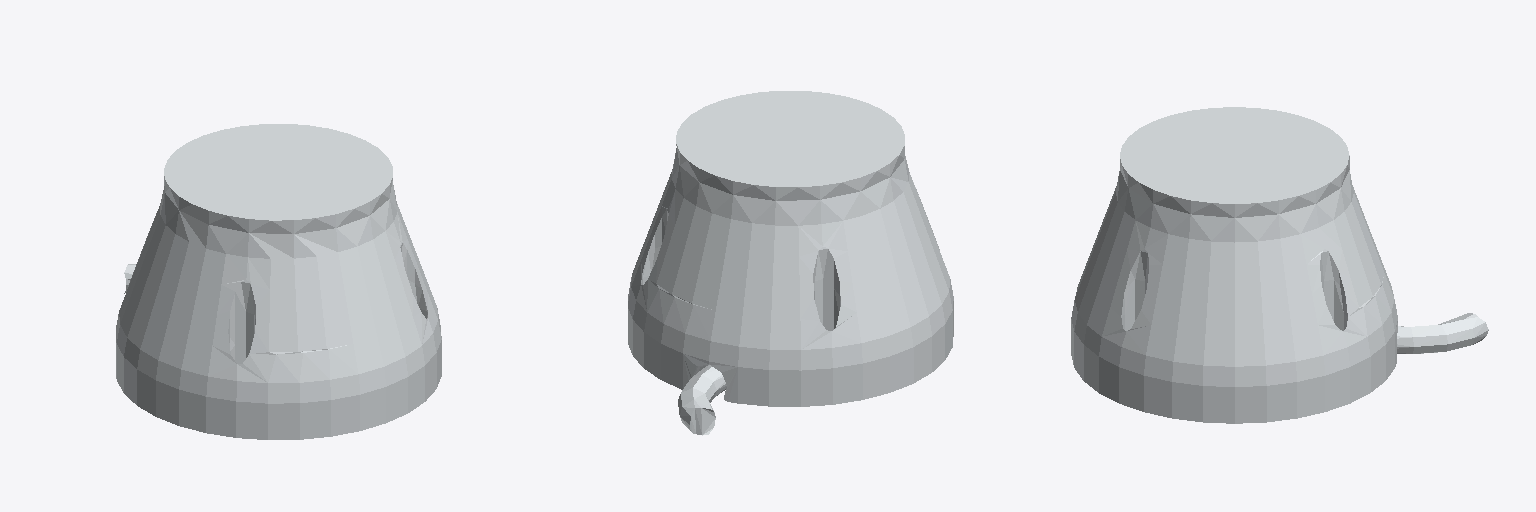
The model's file is URbase.obj.
The picture shows the model from 3 angles: view 1: azimuth 30°, elevation 25°; view 2: azimuth 150°, elevation 25°; view 3: azimuth 270°, elevation 25°; orthographic projection.
Visible parts, largest first — view 1: base; view 2: base; view 3: base.
Boxes of the visible parts, box(x1,y1,x2,y2) form: base: box(116, 124, 441, 439); base: box(628, 91, 953, 435); base: box(1071, 107, 1488, 423).
Size of the model in its own units: 128 by 86.76 by 163.